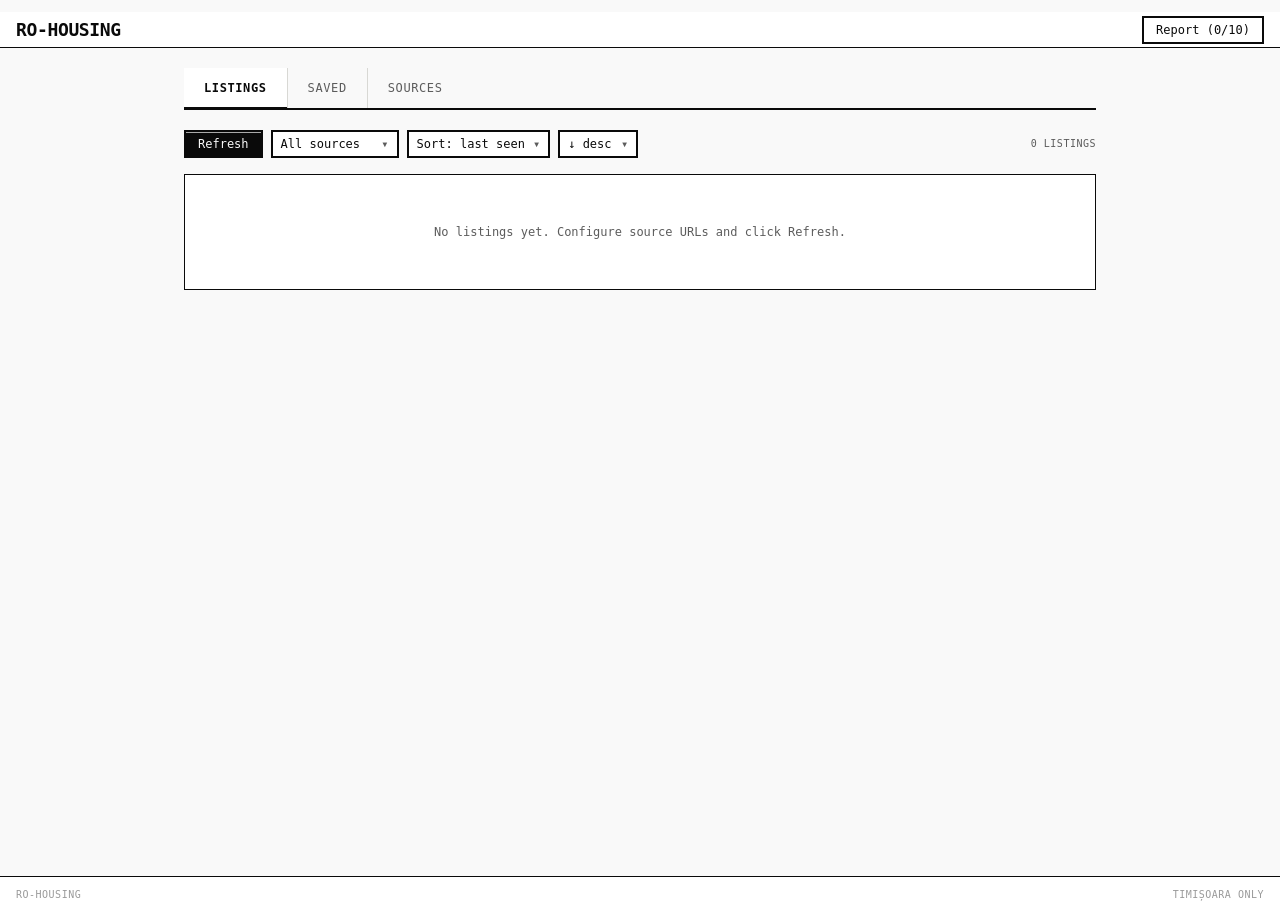
<App> tabs › keeps unsaved Sources edits, and re-reads the last runs when Sources opens again
Click the tab "Sources".
click(415, 88)  # box x1=368 y1=68 x2=462 y2=108
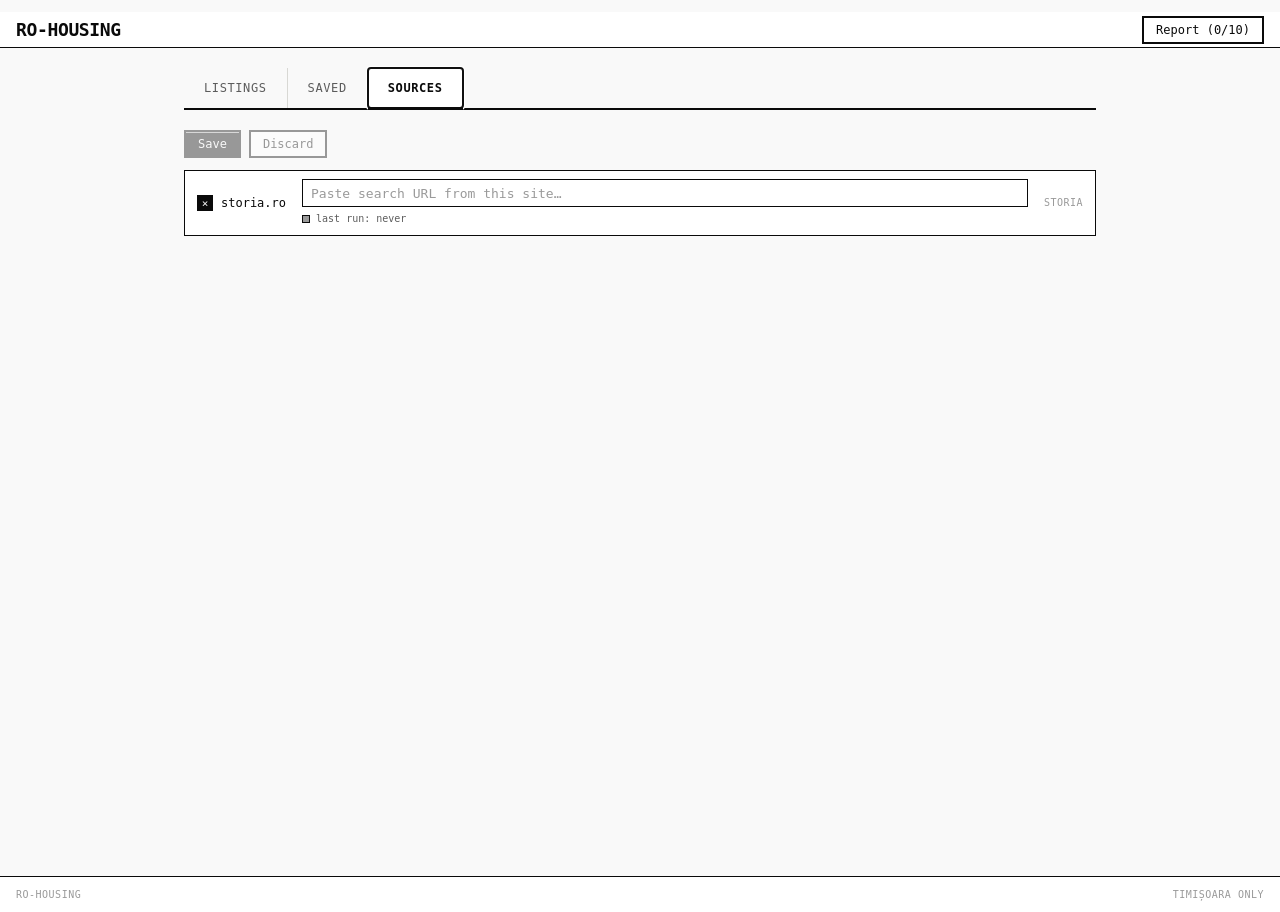
Type "https://www.storia.ro/ro/rezultate" into the field.
click(665, 193); type("https://www.storia.ro/ro/rezultate")  # box x1=302 y1=179 x2=1028 y2=207
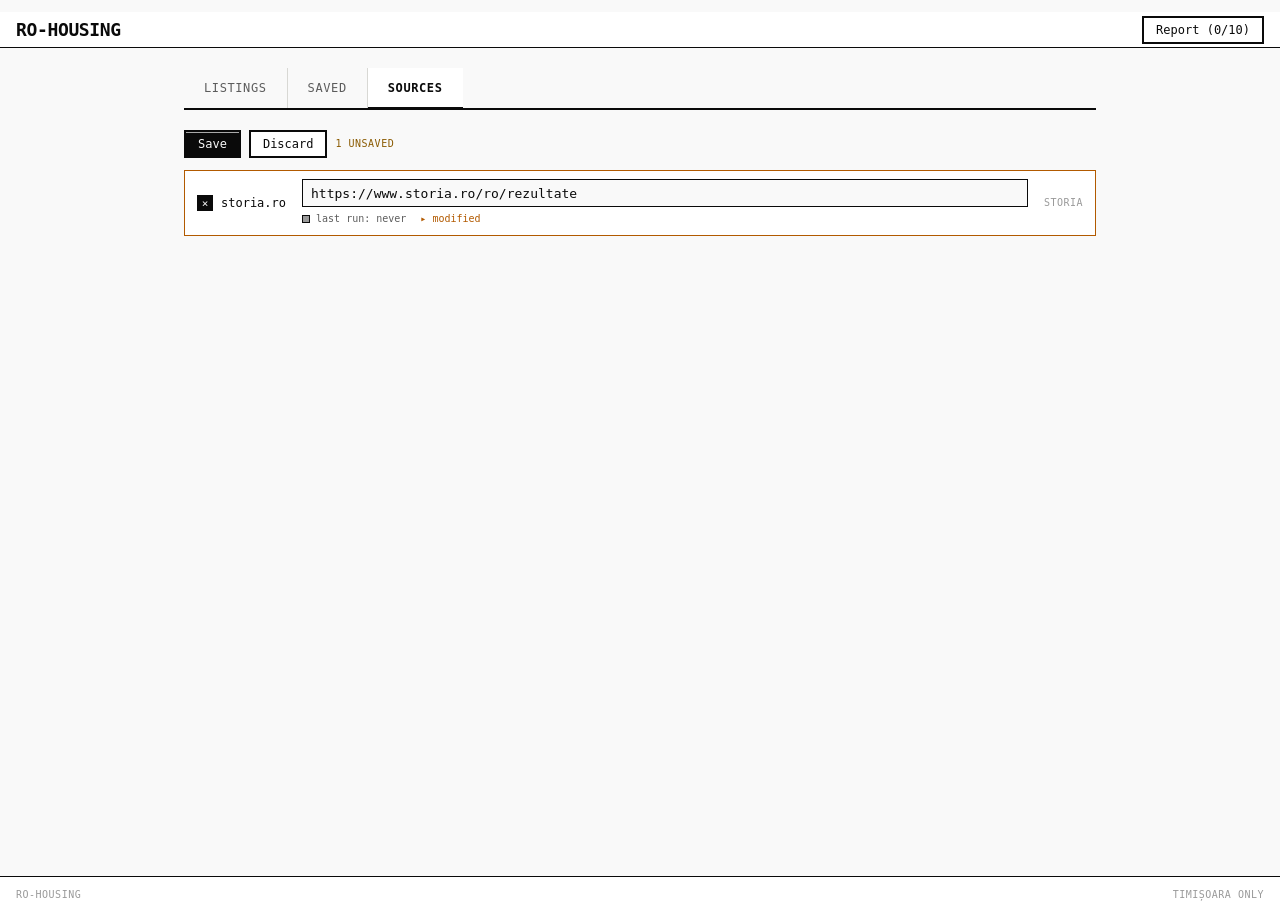
Check: the text "1 unsaved" is shown, box x1=336 y1=136 x2=394 y2=152
Click the tab "Listings".
click(236, 88)  # box x1=184 y1=68 x2=288 y2=108
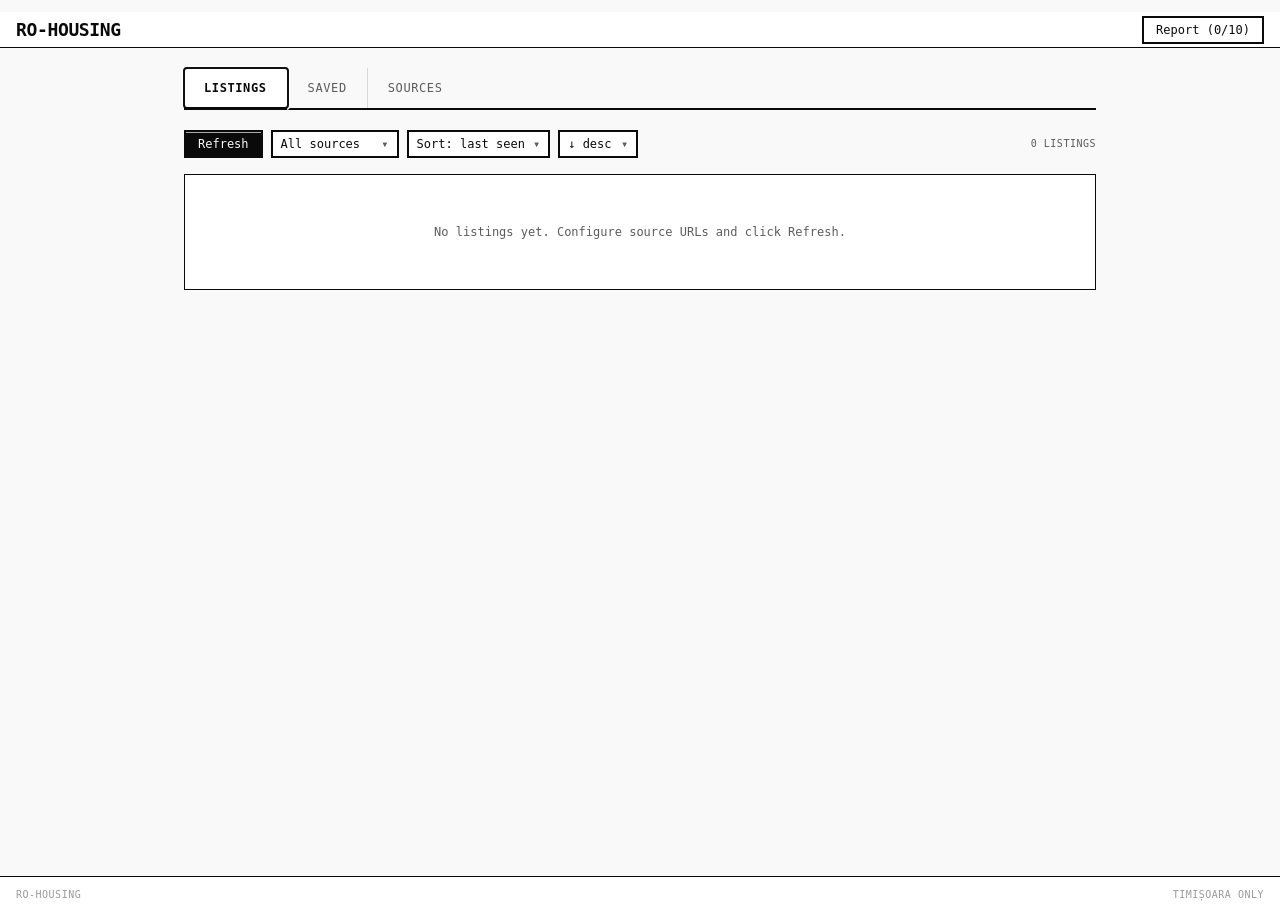
Click the tab "Sources".
click(415, 88)  # box x1=368 y1=68 x2=462 y2=108
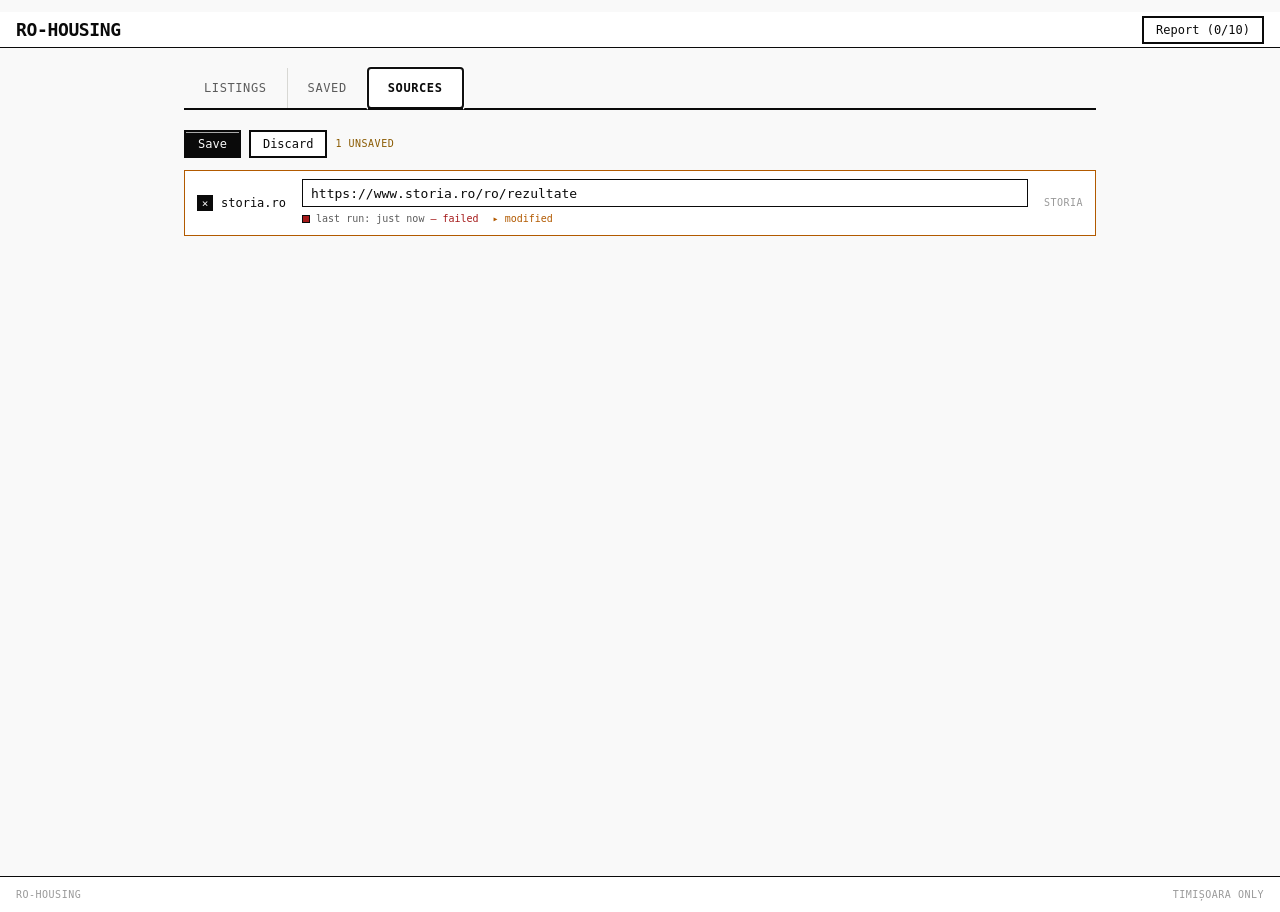
Check: the text "— failed" is shown, box x1=430 y1=211 x2=479 y2=227
Check: the text "1 unsaved" is shown, box x1=336 y1=136 x2=394 y2=152
